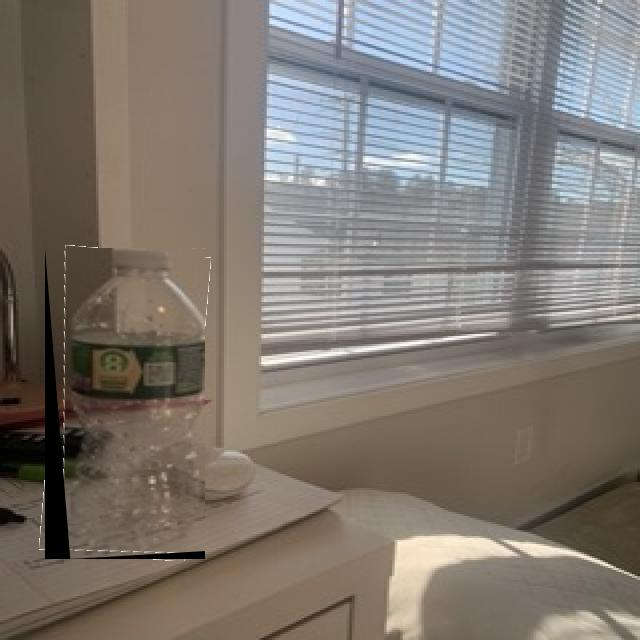water_bottle: (45, 248, 205, 559)
